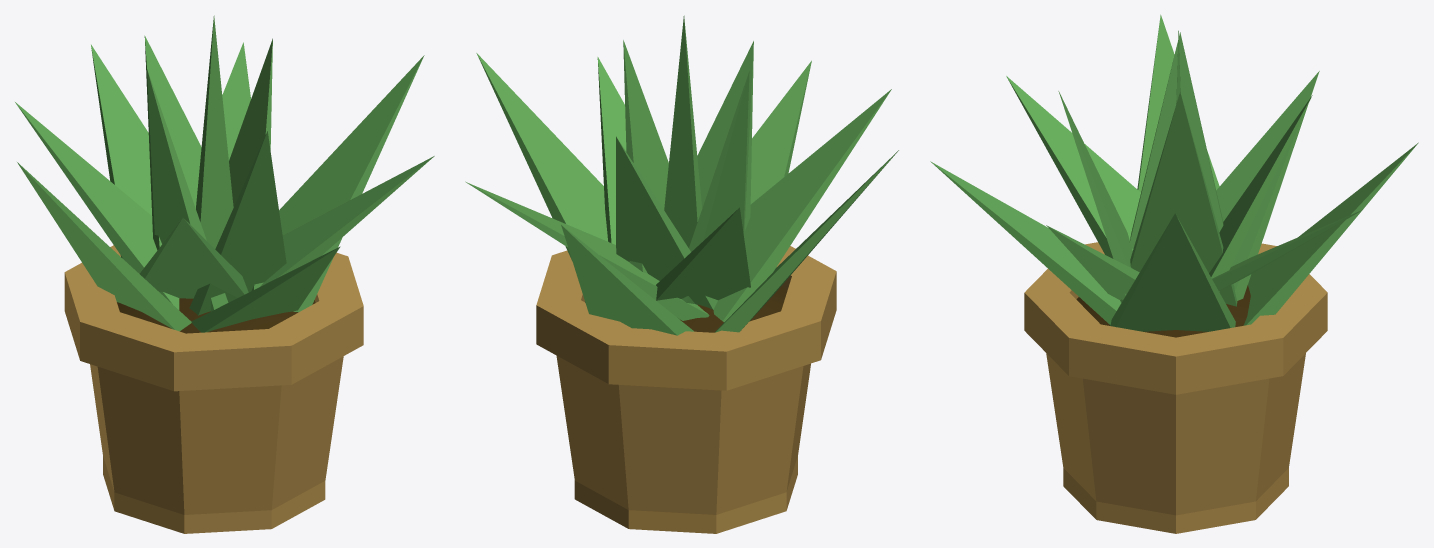
Rendered from PottedPlant1.fbx.
3 renders of one model, left to right at view 1: azimuth 30°, elevation 25°; view 2: azimuth 150°, elevation 25°; view 3: azimuth 270°, elevation 25°, orthographic. The views are drawn at different scales.
Visible parts, largest first — view 1: pCube76; view 2: pCube76; view 3: pCube76.
Boxes of the visible parts, box(x1,y1,x2,y2) form: pCube76: box(15, 15, 434, 533); pCube76: box(465, 15, 898, 533); pCube76: box(930, 14, 1418, 533).
Size of the model in its own units: 2.36 by 2.56 by 2.46.
